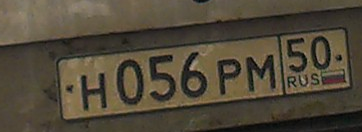character: (178, 50, 211, 101), (115, 55, 146, 107), (244, 50, 278, 96), (147, 53, 177, 104), (79, 66, 110, 111), (216, 55, 241, 97), (309, 29, 333, 71), (285, 36, 311, 73)
